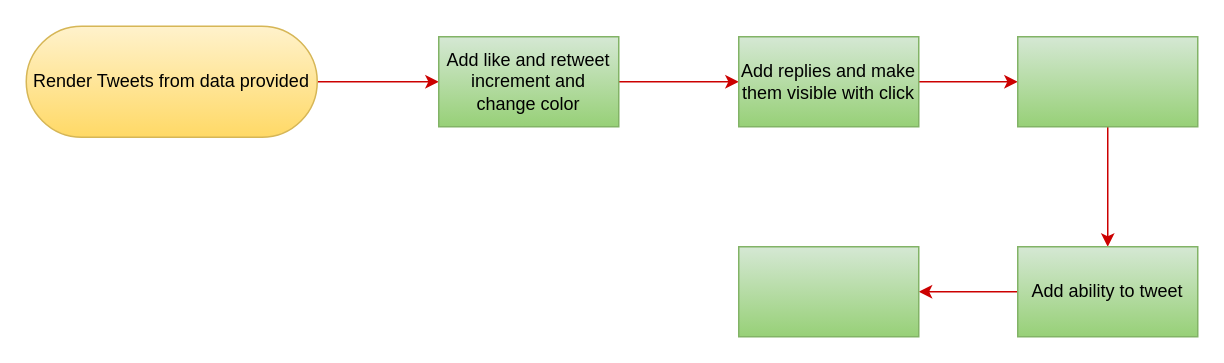
This 1224x363 diagram has some shape labels left out. Each missing label, with the centre of its shape:
"Add ability to reply to tweets" goes at point (1107, 81).
"Allow a user to delete a tweet" goes at point (828, 291).
